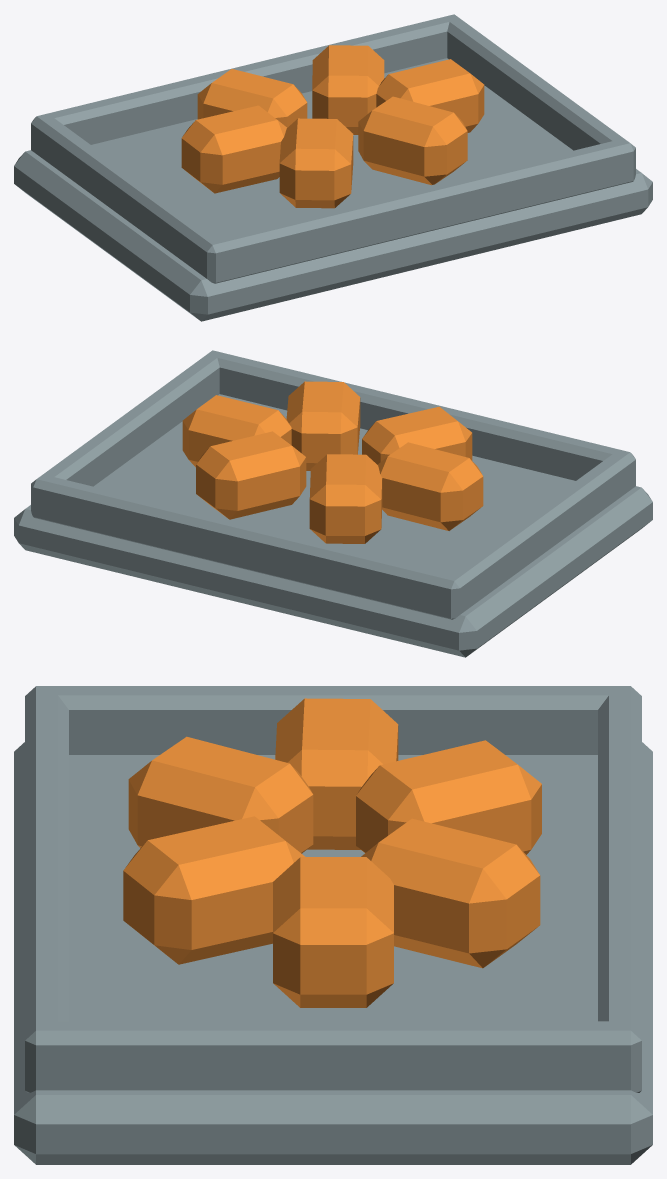
Rendered from sweet_roast_pumpkin.glb.
The picture shows the model from 3 angles, top to bottom: view 1: azimuth 30°, elevation 25°; view 2: azimuth 150°, elevation 25°; view 3: azimuth 270°, elevation 25°; orthographic projection. The views are drawn at different scales.
Parts seen in each view (by area): view 1: FTF_Dish_SweetRoastPumpkin_StaticMesh; view 2: FTF_Dish_SweetRoastPumpkin_StaticMesh; view 3: FTF_Dish_SweetRoastPumpkin_StaticMesh.
Part boxes in pixels (box(x1,y1,x2,y2)): FTF_Dish_SweetRoastPumpkin_StaticMesh: box(14, 14, 652, 321); FTF_Dish_SweetRoastPumpkin_StaticMesh: box(14, 350, 652, 657); FTF_Dish_SweetRoastPumpkin_StaticMesh: box(14, 686, 652, 1164).
Size of the model in its own units: 0.82 by 0.18 by 0.58.
